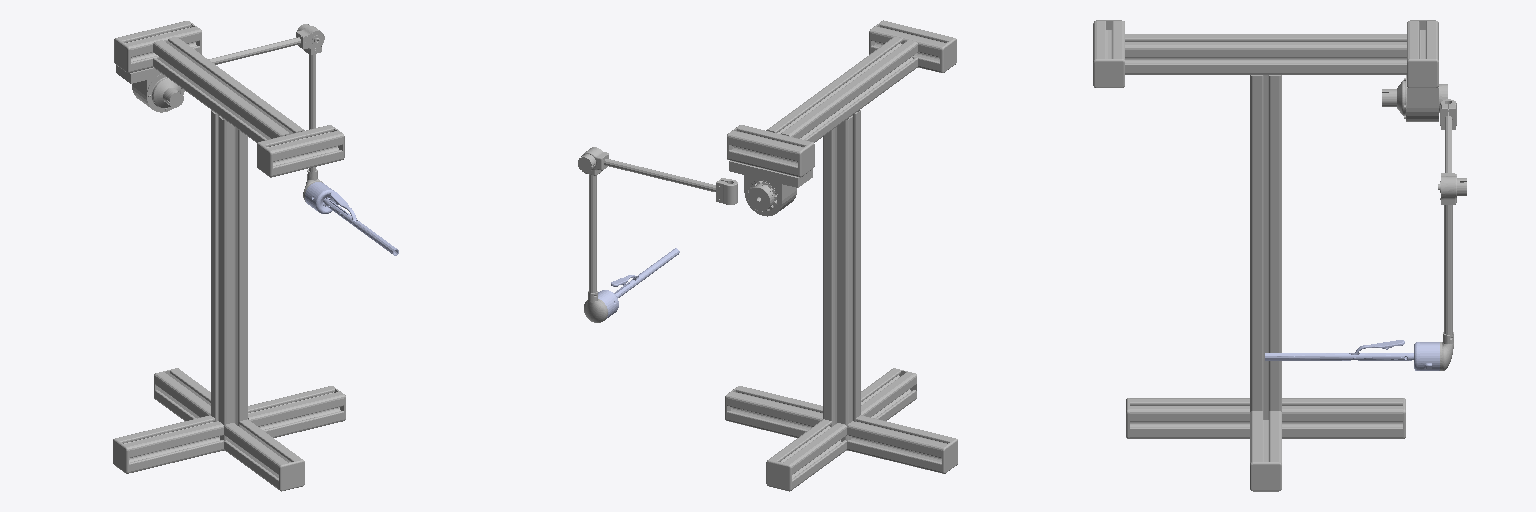
URDF robot description (simple_mtm_v16):
<?xml version="1.0" encoding="utf-8"?>
<!-- This URDF was automatically created by SolidWorks to URDF Exporter! Originally created by Stephen Brawner (brawner@gmail.com) 
     Commit Version: 1.6.0-4-g7f85cfe  Build Version: 1.6.7995.38578
     For more information, please see http://wiki.ros.org/sw_urdf_exporter -->
<robot
  name="simple_mtm_v16">
  <link
    name="base_link">
    <inertial>
      <origin
        xyz="5.47199463274789E-12 0.0331941103362251 0.121119699522856"
        rpy="0 0 0" />
      <mass
        value="1.10120945723253" />
      <inertia
        ixx="0.00778946719068149"
        ixy="-1.55089636807383E-14"
        ixz="-7.15589577150287E-15"
        iyy="0.00613139149583515"
        iyz="-6.01985020734906E-07"
        izz="0.00283497412761364" />
    </inertial>
    <visual>
      <origin
        xyz="0 0 0"
        rpy="0 0 0" />
      <geometry>
        <mesh
          filename="package://simple_mtm_v16/meshes/base_link.STL" />
      </geometry>
      <material
        name="">
        <color
          rgba="0.752941176470588 0.752941176470588 0.752941176470588 1" />
      </material>
    </visual>
    <collision>
      <origin
        xyz="0 0 0"
        rpy="0 0 0" />
      <geometry>
        <mesh
          filename="package://simple_mtm_v16/meshes/base_link.STL" />
      </geometry>
    </collision>
  </link>
  <link
    name="right_J1_link">
    <inertial>
      <origin
        xyz="-0.0272468641090274 -0.00431239962158342 0.0136177788693085"
        rpy="0 0 0" />
      <mass
        value="0.217265269014196" />
      <inertia
        ixx="8.82896586894772E-05"
        ixy="-5.23747831689456E-06"
        ixz="4.84618661160411E-07"
        iyy="9.8833754555421E-05"
        iyz="3.16056040570284E-07"
        izz="0.000161817724585355" />
    </inertial>
    <visual>
      <origin
        xyz="0 0 0"
        rpy="0 0 0" />
      <geometry>
        <mesh
          filename="package://simple_mtm_v16/meshes/right_J1_link.STL" />
      </geometry>
      <material
        name="">
        <color
          rgba="0.752941176470588 0.752941176470588 0.752941176470588 1" />
      </material>
    </visual>
    <collision>
      <origin
        xyz="0 0 0"
        rpy="0 0 0" />
      <geometry>
        <mesh
          filename="package://simple_mtm_v16/meshes/right_J1_link.STL" />
      </geometry>
    </collision>
  </link>
  <joint
    name="right_J1_joint"
    type="continuous">
    <origin
      xyz="0 0.216999999999986 0.285"
      rpy="-1.57079632679489 0 0" />
    <parent
      link="base_link" />
    <child
      link="right_J1_link" />
    <axis
      xyz="0 0 1" />
  </joint>
  <link
    name="right_J2_link">
    <inertial>
      <origin
        xyz="-0.113474393867848 0.00107776626147318 -1.35568763548477E-07"
        rpy="0 0 0" />
      <mass
        value="0.028442603557216" />
      <inertia
        ixx="2.23413747833826E-06"
        ixy="-8.63056316192383E-08"
        ixz="-3.63778380618381E-11"
        iyy="2.18319915210086E-05"
        iyz="1.95087355611567E-13"
        izz="2.11946804960037E-05" />
    </inertial>
    <visual>
      <origin
        xyz="0 0 0"
        rpy="0 0 0" />
      <geometry>
        <mesh
          filename="package://simple_mtm_v16/meshes/right_J2_link.STL" />
      </geometry>
      <material
        name="">
        <color
          rgba="0.752941176470588 0.752941176470588 0.752941176470588 1" />
      </material>
    </visual>
    <collision>
      <origin
        xyz="0 0 0"
        rpy="0 0 0" />
      <geometry>
        <mesh
          filename="package://simple_mtm_v16/meshes/right_J2_link.STL" />
      </geometry>
    </collision>
  </link>
  <joint
    name="right_J2_joint"
    type="continuous">
    <origin
      xyz="0.045 0 0.01"
      rpy="1.5708 0 -3.1416" />
    <parent
      link="right_J1_link" />
    <child
      link="right_J2_link" />
    <axis
      xyz="0 0 -1" />
  </joint>
  <link
    name="right_J3_link">
    <inertial>
      <origin
        xyz="0.169855168697463 -0.0030588386954741 0.000145482432650501"
        rpy="0 0 0" />
      <mass
        value="0.0380698507742345" />
      <inertia
        ixx="3.57015181851017E-06"
        ixy="5.77797289702299E-08"
        ixz="-8.33816059753998E-09"
        iyy="2.50590429118443E-05"
        iyz="-4.1011933629157E-09"
        izz="2.32459379335203E-05" />
    </inertial>
    <visual>
      <origin
        xyz="0 0 0"
        rpy="0 0 0" />
      <geometry>
        <mesh
          filename="package://simple_mtm_v16/meshes/right_J3_link.STL" />
      </geometry>
      <material
        name="">
        <color
          rgba="0.752941176470588 0.752941176470588 0.752941176470588 1" />
      </material>
    </visual>
    <collision>
      <origin
        xyz="0 0 0"
        rpy="0 0 0" />
      <geometry>
        <mesh
          filename="package://simple_mtm_v16/meshes/right_J3_link.STL" />
      </geometry>
    </collision>
  </link>
  <joint
    name="right_J3_joint"
    type="fixed">
    <origin
      xyz="-0.2175 -0.0095 0"
      rpy="0 -1.5708 0" />
    <parent
      link="right_J2_link" />
    <child
      link="right_J3_link" />
    <axis
      xyz="0 0 0" />
  </joint>
  <link
    name="right_G3_link">
    <inertial>
      <origin
        xyz="-0.000538298034257922 0.0205137660110617 6.9375556808679E-05"
        rpy="0 0 0" />
      <mass
        value="0.0139115090394775" />
      <inertia
        ixx="2.05714095768685E-06"
        ixy="-1.18920441797095E-08"
        ixz="-1.2610331402251E-08"
        iyy="3.24885522100954E-06"
        iyz="8.79998026858828E-09"
        izz="2.08516206561185E-06" />
    </inertial>
    <visual>
      <origin
        xyz="0 0 0"
        rpy="0 0 0" />
      <geometry>
        <mesh
          filename="package://simple_mtm_v16/meshes/right_G3_link.STL" />
      </geometry>
      <material
        name="">
        <color
          rgba="0.792156862745098 0.819607843137255 0.933333333333333 1" />
      </material>
    </visual>
    <collision>
      <origin
        xyz="0 0 0"
        rpy="0 0 0" />
      <geometry>
        <mesh
          filename="package://simple_mtm_v16/meshes/right_G3_link.STL" />
      </geometry>
    </collision>
  </link>
  <joint
    name="right_G3_joint"
    type="continuous">
    <origin
      xyz="0.232499999999994 -0.000500000000001194 0"
      rpy="3.14159265358979 1.5707963267949 0" />
    <parent
      link="right_J3_link" />
    <child
      link="right_G3_link" />
    <axis
      xyz="0 -1 0" />
  </joint>
  <link
    name="right_G2_link">
    <inertial>
      <origin
        xyz="-0.000390964800846688 2.1978008957535E-05 -0.00102567858648792"
        rpy="0 0 0" />
      <mass
        value="0.000175394578104924" />
      <inertia
        ixx="6.00806245621315E-09"
        ixy="1.19071568961014E-11"
        ixz="-1.77273008759156E-09"
        iyy="7.7946490624533E-09"
        iyz="3.12378910526832E-11"
        izz="2.03310817422896E-09" />
    </inertial>
    <visual>
      <origin
        xyz="0 0 0"
        rpy="0 0 0" />
      <geometry>
        <mesh
          filename="package://simple_mtm_v16/meshes/right_G2_link.STL" />
      </geometry>
      <material
        name="">
        <color
          rgba="0.792156862745098 0.819607843137255 0.933333333333333 1" />
      </material>
    </visual>
    <collision>
      <origin
        xyz="0 0 0"
        rpy="0 0 0" />
      <geometry>
        <mesh
          filename="package://simple_mtm_v16/meshes/right_G2_link.STL" />
      </geometry>
    </collision>
  </link>
  <joint
    name="right_G2_joint"
    type="continuous">
    <origin
      xyz="0 0.02253 0"
      rpy="0 -0.364174851103282 3.14159265358979" />
    <parent
      link="right_G3_link" />
    <child
      link="right_G2_link" />
    <axis
      xyz="0.356178381855326 0 0.934417979439031" />
  </joint>
  <link
    name="right_G1_link">
    <inertial>
      <origin
        xyz="-1.05032013917317E-05 -0.0858282732588095 -2.73302344737658E-05"
        rpy="0 0 0" />
      <mass
        value="0.00625621520567231" />
      <inertia
        ixx="1.27666098425886E-05"
        ixy="-3.81984029962003E-10"
        ixz="1.82290603449923E-09"
        iyy="1.14531246370279E-07"
        iyz="-1.08584454872237E-09"
        izz="1.27722041084186E-05" />
    </inertial>
    <visual>
      <origin
        xyz="0 0 0"
        rpy="0 0 0" />
      <geometry>
        <mesh
          filename="package://simple_mtm_v16/meshes/right_G1_link.STL" />
      </geometry>
      <material
        name="">
        <color
          rgba="0.792156862745098 0.819607843137255 0.933333333333333 1" />
      </material>
    </visual>
    <collision>
      <origin
        xyz="0 0 0"
        rpy="0 0 0" />
      <geometry>
        <mesh
          filename="package://simple_mtm_v16/meshes/right_G1_link.STL" />
      </geometry>
    </collision>
  </link>
  <joint
    name="right_G1_joint"
    type="continuous">
    <origin
      xyz="0 0 0"
      rpy="0 0 0" />
    <parent
      link="right_G2_link" />
    <child
      link="right_G1_link" />
    <axis
      xyz="0.934417979439031 0 -0.356178381855326" />
  </joint>
  <link
    name="right_G0_1_link">
    <inertial>
      <origin
        xyz="0.00495725277495454 0.0335829908035101 0.0131185541022454"
        rpy="0 0 0" />
      <mass
        value="0.00204075415287946" />
      <inertia
        ixx="7.291835514559E-07"
        ixy="-6.03030711122909E-08"
        ixz="-1.19420109398605E-08"
        iyy="6.47741964762142E-08"
        iyz="-1.39761570231974E-07"
        izz="7.10623170243149E-07" />
    </inertial>
    <visual>
      <origin
        xyz="0 0 0"
        rpy="0 0 0" />
      <geometry>
        <mesh
          filename="package://simple_mtm_v16/meshes/right_G0_1_link.STL" />
      </geometry>
      <material
        name="">
        <color
          rgba="0.792156862745098 0.819607843137255 0.933333333333333 1" />
      </material>
    </visual>
    <collision>
      <origin
        xyz="0 0 0"
        rpy="0 0 0" />
      <geometry>
        <mesh
          filename="package://simple_mtm_v16/meshes/right_G0_1_link.STL" />
      </geometry>
    </collision>
  </link>
  <joint
    name="right_G0_1_joint"
    type="continuous">
    <origin
      xyz="0 -0.0843 0"
      rpy="-3.1218 -7.4478E-05 -3.1341" />
    <parent
      link="right_G1_link" />
    <child
      link="right_G0_1_link" />
    <axis
      xyz="0.93442 0 -0.35618" />
  </joint>
  <link
    name="right_G0_2_link">
    <inertial>
      <origin
        xyz="-0.00529617375766236 0.0331696096785515 -0.0140076982971603"
        rpy="0 0 0" />
      <mass
        value="0.00204075409890075" />
      <inertia
        ixx="7.27894302650053E-07"
        ixy="6.66372557371623E-08"
        ixz="-1.51382121210434E-08"
        iyy="7.39602915064872E-08"
        iyz="1.56605359477286E-07"
        izz="7.02726340131672E-07" />
    </inertial>
    <visual>
      <origin
        xyz="0 0 0"
        rpy="0 0 0" />
      <geometry>
        <mesh
          filename="package://simple_mtm_v16/meshes/right_G0_2_link.STL" />
      </geometry>
      <material
        name="">
        <color
          rgba="0.792156862745098 0.819607843137255 0.933333333333333 1" />
      </material>
    </visual>
    <collision>
      <origin
        xyz="0 0 0"
        rpy="0 0 0" />
      <geometry>
        <mesh
          filename="package://simple_mtm_v16/meshes/right_G0_2_link.STL" />
      </geometry>
    </collision>
  </link>
  <joint
    name="right_G0_2_link"
    type="continuous">
    <origin
      xyz="0 -0.0843 0"
      rpy="-3.1218 -7.4478E-05 -3.1341" />
    <parent
      link="right_G1_link" />
    <child
      link="right_G0_2_link" />
    <axis
      xyz="0.93442 0 -0.35618" />
  </joint>
</robot>

--- Facts derived from the render (not from the file) ---
Views: 3 orthographic renders of the robot side by side, from view 1: azimuth 30°, elevation 25°; view 2: azimuth 150°, elevation 25°; view 3: azimuth 270°, elevation 25°.
Robot: simple_mtm_v16 — 9 links, 8 joints (7 continuous, 1 fixed); root link base_link; default pose: all joints at 0.
Visible links, largest first — view 1: base_link, right_J2_link, right_J3_link, right_G1_link, right_G3_link; view 2: base_link, right_J2_link, right_J3_link, right_G1_link; view 3: base_link, right_J3_link, right_J2_link, right_G1_link, right_G3_link.
Link boxes in pixels (left/top/right/bottom): base_link: left=113, top=21, right=345, bottom=491; right_J2_link: left=208, top=24, right=324, bottom=64; right_J3_link: left=303, top=26, right=324, bottom=201; right_G1_link: left=323, top=198, right=398, bottom=255; right_G3_link: left=305, top=182, right=336, bottom=213; base_link: left=725, top=20, right=957, bottom=491; right_J2_link: left=578, top=147, right=737, bottom=204; right_J3_link: left=584, top=147, right=607, bottom=322; right_G1_link: left=614, top=248, right=679, bottom=297; base_link: left=1093, top=20, right=1447, bottom=491; right_J3_link: left=1440, top=176, right=1456, bottom=370; right_J2_link: left=1438, top=99, right=1466, bottom=197; right_G1_link: left=1265, top=353, right=1413, bottom=360; right_G3_link: left=1414, top=342, right=1439, bottom=370.
Size in the robot's own frame: 0.4564 by 0.4646 by 0.54 metres.
Meshes: 9 distinct files referenced, 7 mesh visuals loaded (7 binary STL); not drawn: 2 (reference not matched to a file when rendering).
